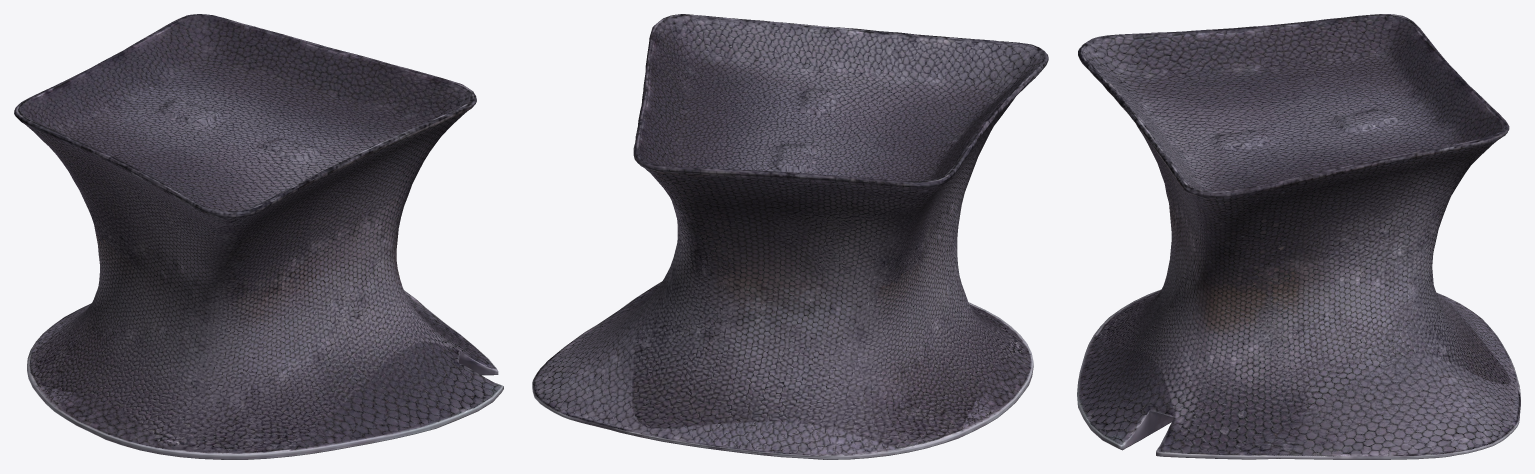
The model's file is tripo_convert_d1cc4abc-ddf6-498e-bdf4-02a5ef405407.fbx.
3 views of the same model, side by side, from view 1: azimuth 30°, elevation 25°; view 2: azimuth 150°, elevation 25°; view 3: azimuth 270°, elevation 25° (orthographic). The views are drawn at different scales.
Visible parts, largest first — view 1: tripo_node_d1cc4abc; view 2: tripo_node_d1cc4abc; view 3: tripo_node_d1cc4abc.
Boxes of the visible parts, x1,y1,x2,y2 form: tripo_node_d1cc4abc: (14, 14, 503, 459); tripo_node_d1cc4abc: (532, 14, 1048, 459); tripo_node_d1cc4abc: (1077, 14, 1520, 459).
Bounding box in the file's own units: 0.9883 × 0.6536 × 0.9922.
